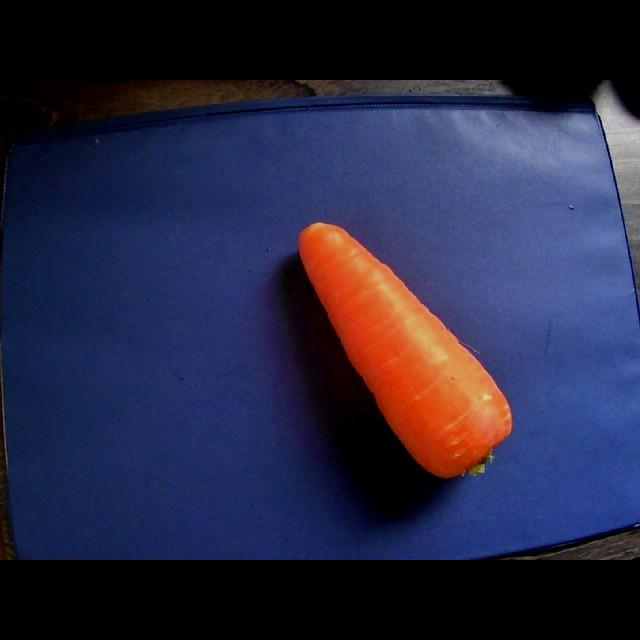zanahoria: (300, 223, 512, 478)
